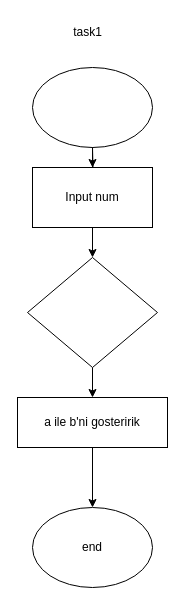
This 185x605 diagram has some shape labels left out. Each missing label, with the box of its shape:
if num > 91 && if num > 75: (26, 256, 158, 368)
start: (32, 66, 152, 148)
